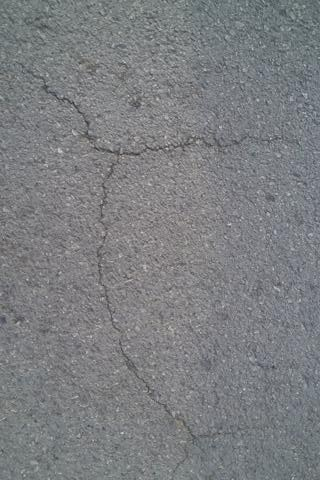A: (94, 156, 221, 473), (21, 60, 301, 155)
